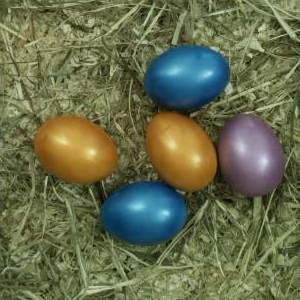egg: (144, 112, 218, 193), (143, 46, 231, 112), (34, 116, 118, 184), (219, 113, 286, 196), (101, 183, 189, 245)
